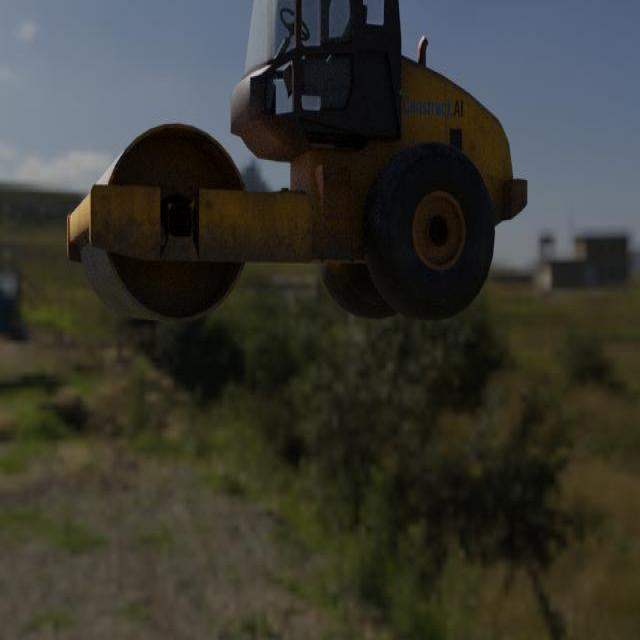Roller: (66, 0, 528, 324)
